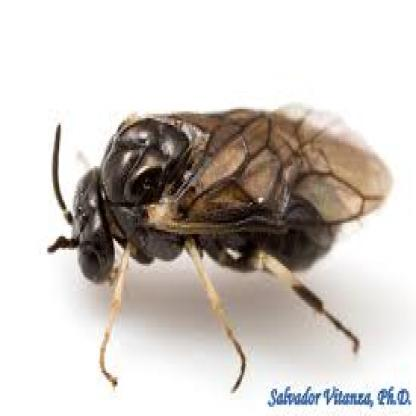sawfly: (49, 92, 390, 385)
